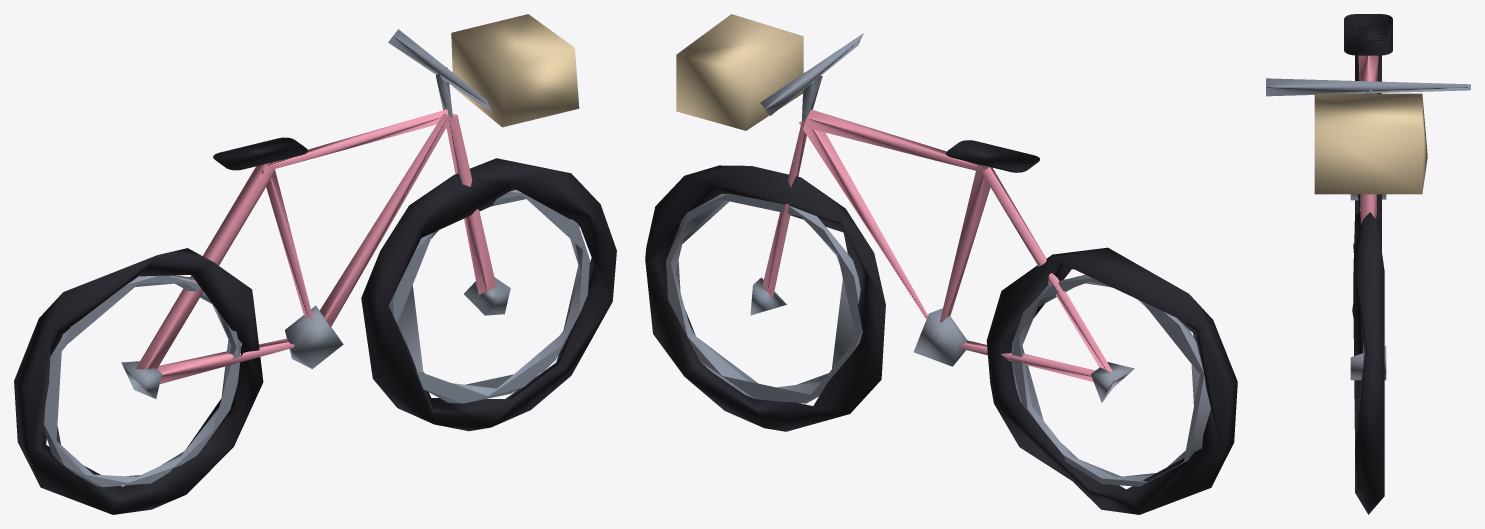
File: bicycle.glb
The picture shows the model from 3 angles, left to right: view 1: azimuth 30°, elevation 25°; view 2: azimuth 150°, elevation 25°; view 3: azimuth 270°, elevation 25°; orthographic projection. The views are drawn at different scales.
Visible parts, largest first — view 1: bicycle; view 2: bicycle; view 3: bicycle.
Boxes of the visible parts, x1,y1,x2,y2 form: bicycle: (14,14,616,514); bicycle: (645,14,1237,514); bicycle: (1266,14,1470,514).
Size of the model in its own units: 1.77 by 1.09 by 0.5.
1 material, 1 textured.
